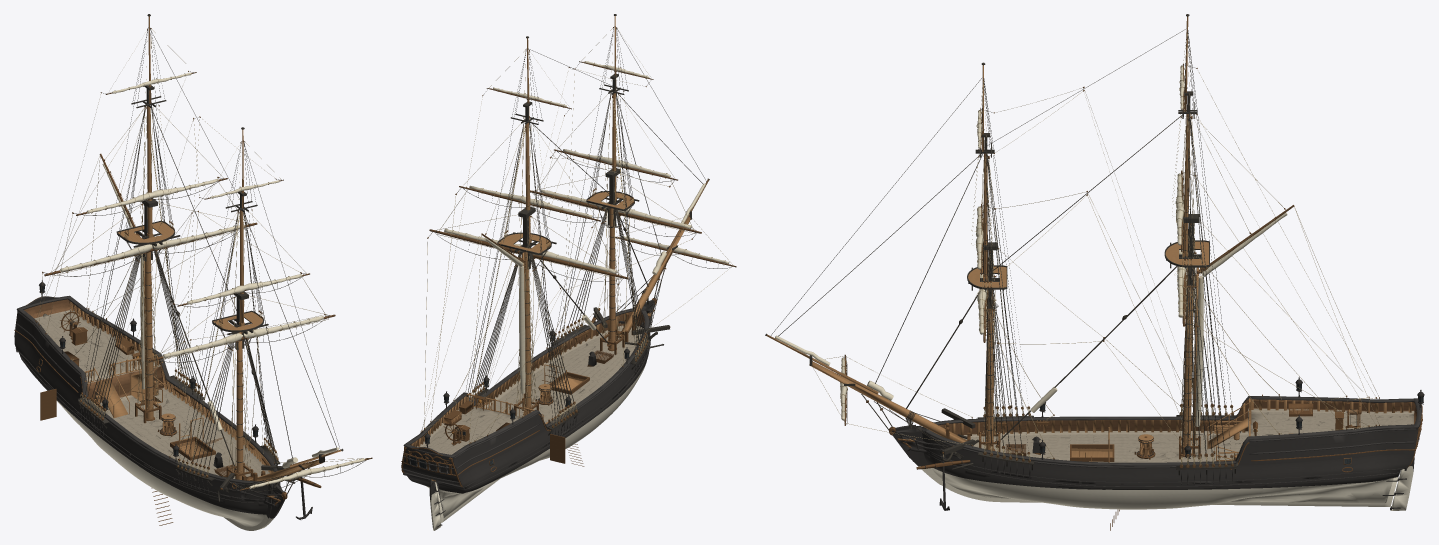
Rendered from ship_lod1.glb.
3 views of the same model, side by side, from view 1: azimuth 30°, elevation 25°; view 2: azimuth 150°, elevation 25°; view 3: azimuth 270°, elevation 25° (orthographic). The views are drawn at different scales.
Parts seen in each view (by area): view 1: lod1_hull, lod1_rope_running, lod1_hull_rail, lod1_rope_backstays, lod1_rope_stays, lod1_rope_main_shrouds, lod1_spars_timber_005, lod1_rope_fore_shrouds, lod1_furled_sail_zagiel_main, lod1_spars_timber_004, lod1_furled_sail_zagiel_fore, lod1_rope_topmast_shrouds (+13 smaller); view 2: lod1_hull, lod1_rope_running, lod1_rope_backstays, lod1_hull_rail, lod1_rope_main_shrouds, lod1_rope_fore_shrouds, lod1_rope_stays, lod1_furled_sail_zagiel_gaflowy, lod1_bowsprit, lod1_spars_timber_005, lod1_spars_timber_004, lod1_rope_topmast_shrouds (+14 smaller); view 3: lod1_hull, lod1_rope_running, lod1_hull_rail, lod1_rope_backstays, lod1_rope_stays, lod1_rope_main_shrouds, lod1_bowsprit, lod1_hull_backbone, lod1_furled_sail_zagiel_gaflowy, lod1_rope_fore_shrouds, lod1_spars_timber_005, lod1_hull_mouldings (+3 smaller).
Part boxes in pixels (<box>): lod1_hull: <box>14,299,278,526</box>; lod1_rope_running: <box>36,38,322,469</box>; lod1_hull_rail: <box>16,295,278,484</box>; lod1_rope_backstays: <box>82,27,268,461</box>; lod1_rope_stays: <box>150,28,340,516</box>; lod1_rope_main_shrouds: <box>91,236,198,407</box>; lod1_spars_timber_005: <box>145,252,153,418</box>; lod1_rope_fore_shrouds: <box>192,325,275,466</box>; lod1_furled_sail_zagiel_main: <box>60,225,244,272</box>; lod1_spars_timber_004: <box>236,332,243,479</box>; lod1_furled_sail_zagiel_fore: <box>162,316,323,358</box>; lod1_rope_topmast_shrouds: <box>125,104,261,321</box>; lod1_hull: <box>401,308,650,517</box>; lod1_rope_running: <box>422,35,689,443</box>; lod1_rope_backstays: <box>465,26,639,417</box>; lod1_hull_rail: <box>403,308,648,457</box>; lod1_rope_main_shrouds: <box>473,247,573,410</box>; lod1_rope_fore_shrouds: <box>568,204,645,343</box>; lod1_rope_stays: <box>528,29,706,344</box>; lod1_furled_sail_zagiel_gaflowy: <box>484,237,525,393</box>; lod1_bowsprit: <box>615,178,709,341</box>; lod1_spars_timber_005: <box>524,252,531,414</box>; lod1_spars_timber_004: <box>609,208,615,348</box>; lod1_rope_topmast_shrouds: <box>505,92,632,241</box>; lod1_hull: <box>921,399,1420,509</box>; lod1_rope_running: <box>971,34,1378,461</box>; lod1_hull_rail: <box>924,396,1420,466</box>; lod1_rope_backstays: <box>983,29,1231,455</box>; lod1_rope_stays: <box>771,29,1186,461</box>; lod1_rope_main_shrouds: <box>1181,267,1212,453</box>; lod1_bowsprit: <box>765,333,970,442</box>; lod1_hull_backbone: <box>915,425,1398,506</box>; lod1_furled_sail_zagiel_gaflowy: <box>1195,212,1287,426</box>; lod1_rope_fore_shrouds: <box>985,289,1009,446</box>; lod1_spars_timber_005: <box>1182,268,1193,454</box>; lod1_hull_mouldings: <box>930,428,1415,484</box>.
Bounding box in the file's own units: 16.71 × 36.1 × 41.29.
Materials: 15 (15 with a texture image).
